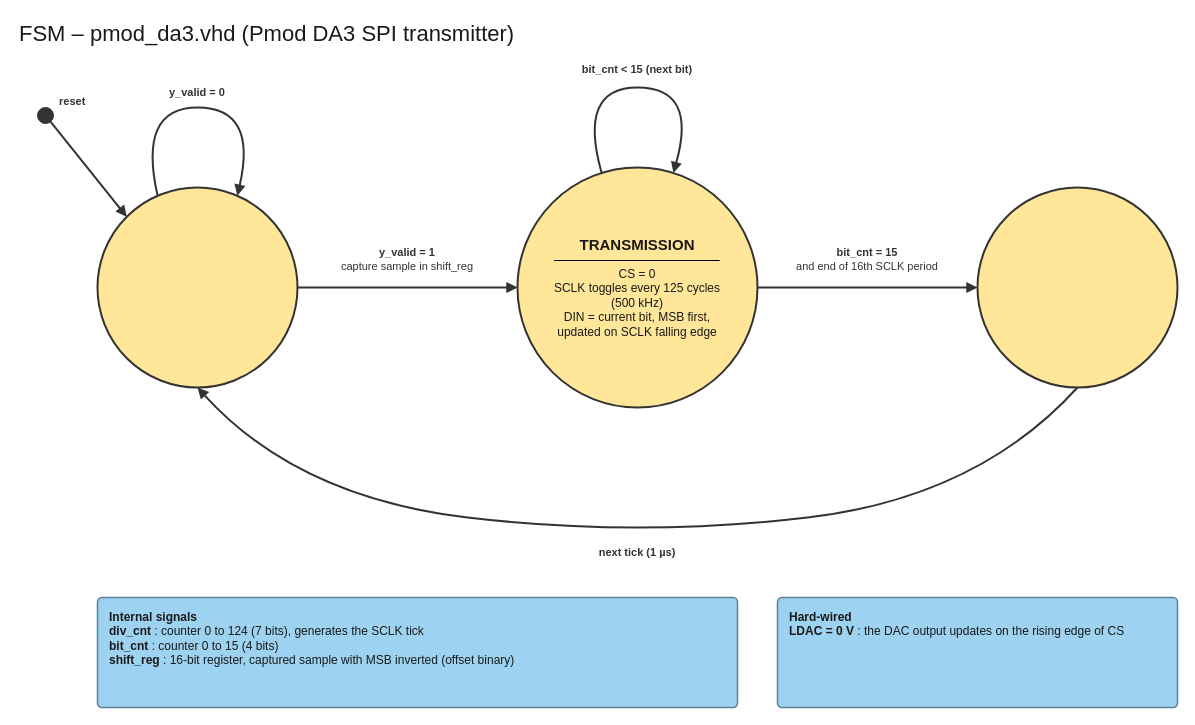
Image size: 1195x725. Some labels were removed from this diagram. The shapes that lost their labels are listed below. From the top down, each one's centre as x and y in pixels, then its label:
the point at 197,287: IDLE CS = 1 SCLK = 0 DIN = 0
the point at 1077,287: END_TRANSMISSION CS = 1 SCLK = 0 DIN = 0
